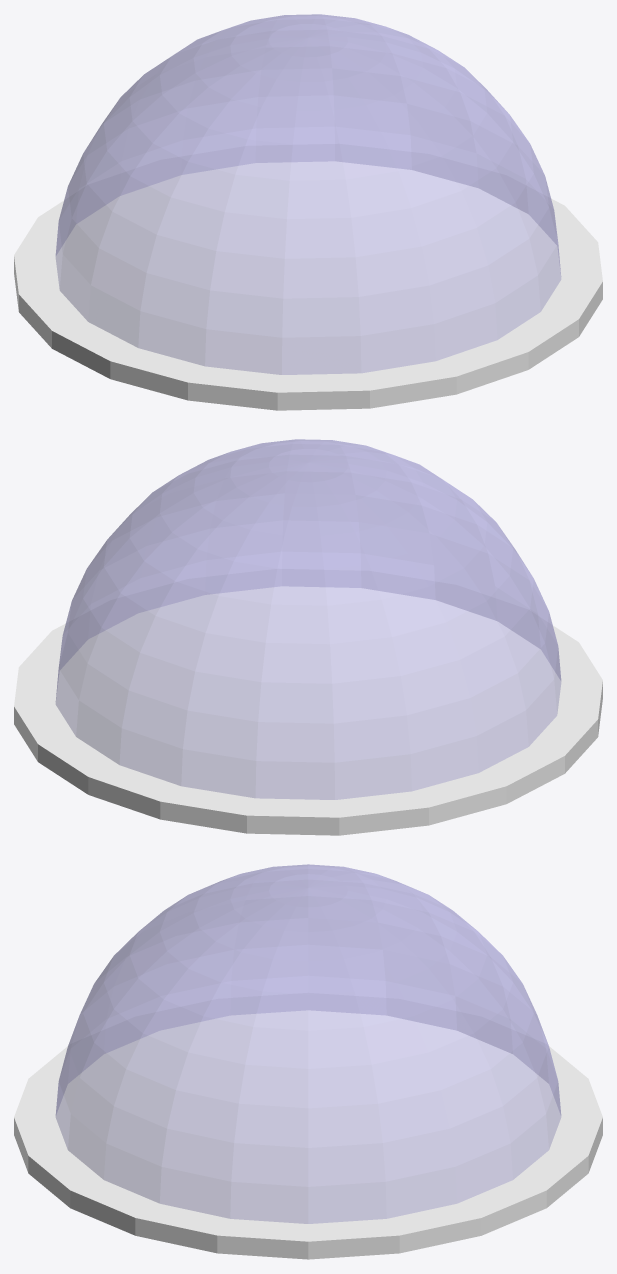
File: Building_04.fbx
3 renders of one model, top to bottom at view 1: azimuth 30°, elevation 25°; view 2: azimuth 150°, elevation 25°; view 3: azimuth 270°, elevation 25°, orthographic.
Visible parts, largest first — view 1: Building_04; view 2: Building_04; view 3: Building_04.
Boxes of the visible parts, <box> form: Building_04: <box>14,14,602,410</box>; Building_04: <box>14,439,602,835</box>; Building_04: <box>14,864,602,1259</box>.
Size of the model in its own units: 138 by 63.84 by 138.
